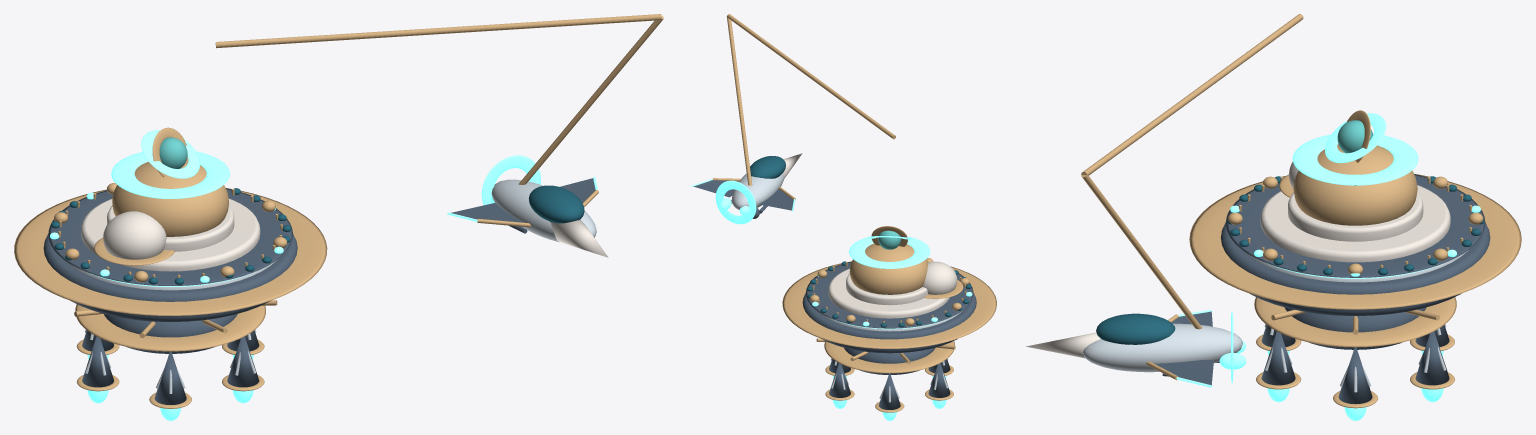
Rendered from static.glb.
3 views of the same model, side by side, from view 1: azimuth 30°, elevation 25°; view 2: azimuth 150°, elevation 25°; view 3: azimuth 270°, elevation 25° (orthographic). The views are drawn at different scales.
Parts seen in each view (by area): view 1: Hull_Outer_Gold_Ring, Hull_Inner_Frame, Hull_Deck_Primary, LotusPod_Command, Hull_Deck_Crown, Fusion_Containment_Torus, P2L_ReconDock_UpperBridge, LotusPod_Command_SensorHalo, LotusPod_Science, Recon_Fuselage, Fusion_Plasma_Reactor, Recon_Cockpit_Canopy (+12 smaller); view 2: Hull_Outer_Gold_Ring, LotusPod_Command, Hull_Inner_Frame, Hull_Deck_Primary, Hull_Deck_Crown, Fusion_Containment_Torus, LotusPod_Command_SensorHalo, P2L_ReconDock_UpperBridge, Recon_Fuselage, LotusPod_Command_Collar, LotusPod_Science, Recon_ReactorBand (+11 smaller); view 3: Hull_Outer_Gold_Ring, Hull_Inner_Frame, LotusPod_Command, Hull_Deck_Crown, Hull_Deck_Primary, Recon_Fuselage, Fusion_Containment_Torus, LotusPod_Command_SensorHalo, LotusPod_Command_Collar, Recon_Cockpit_Canopy, Fusion_Plasma_Reactor, P2L_ReconDock_UpperBridge (+9 smaller).
Part boxes in pixels (bbox=[...]): Hull_Outer_Gold_Ring: bbox=[14, 188, 327, 315]; Hull_Inner_Frame: bbox=[48, 188, 292, 285]; Hull_Deck_Primary: bbox=[43, 233, 297, 321]; LotusPod_Command: bbox=[112, 162, 228, 236]; Hull_Deck_Crown: bbox=[81, 198, 260, 271]; Fusion_Containment_Torus: bbox=[75, 304, 265, 351]; P2L_ReconDock_UpperBridge: bbox=[215, 14, 661, 48]; LotusPod_Command_SensorHalo: bbox=[111, 151, 229, 198]; LotusPod_Science: bbox=[103, 211, 166, 259]; Recon_Fuselage: bbox=[491, 179, 596, 242]; Fusion_Plasma_Reactor: bbox=[104, 314, 237, 353]; Recon_Cockpit_Canopy: bbox=[528, 185, 584, 223]; Hull_Outer_Gold_Ring: bbox=[782, 261, 996, 348]; LotusPod_Command: bbox=[849, 243, 927, 294]; Hull_Inner_Frame: bbox=[806, 261, 973, 328]; Hull_Deck_Primary: bbox=[802, 292, 976, 353]; Hull_Deck_Crown: bbox=[828, 268, 949, 318]; Fusion_Containment_Torus: bbox=[824, 341, 954, 373]; LotusPod_Command_SensorHalo: bbox=[849, 236, 930, 268]; P2L_ReconDock_UpperBridge: bbox=[727, 14, 895, 139]; Recon_Fuselage: bbox=[732, 173, 784, 209]; LotusPod_Command_Collar: bbox=[846, 273, 927, 305]; LotusPod_Science: bbox=[922, 261, 957, 294]; Recon_ReactorBand: bbox=[715, 180, 756, 224]; Hull_Outer_Gold_Ring: bbox=[1189, 174, 1521, 309]; Hull_Inner_Frame: bbox=[1226, 174, 1485, 277]; LotusPod_Command: bbox=[1293, 144, 1417, 225]; Hull_Deck_Crown: bbox=[1260, 185, 1450, 262]; Hull_Deck_Primary: bbox=[1220, 222, 1490, 315]; Recon_Fuselage: bbox=[1083, 323, 1242, 372]; Fusion_Containment_Torus: bbox=[1254, 297, 1456, 347]; LotusPod_Command_SensorHalo: bbox=[1292, 133, 1418, 185]; LotusPod_Command_Collar: bbox=[1288, 192, 1423, 241]; Recon_Cockpit_Canopy: bbox=[1096, 313, 1175, 344]; Fusion_Plasma_Reactor: bbox=[1284, 307, 1426, 349]; P2L_ReconDock_UpperBridge: bbox=[1081, 14, 1303, 175].
Bounding box in the file's own units: 7.8 × 5.59 × 6.31.
